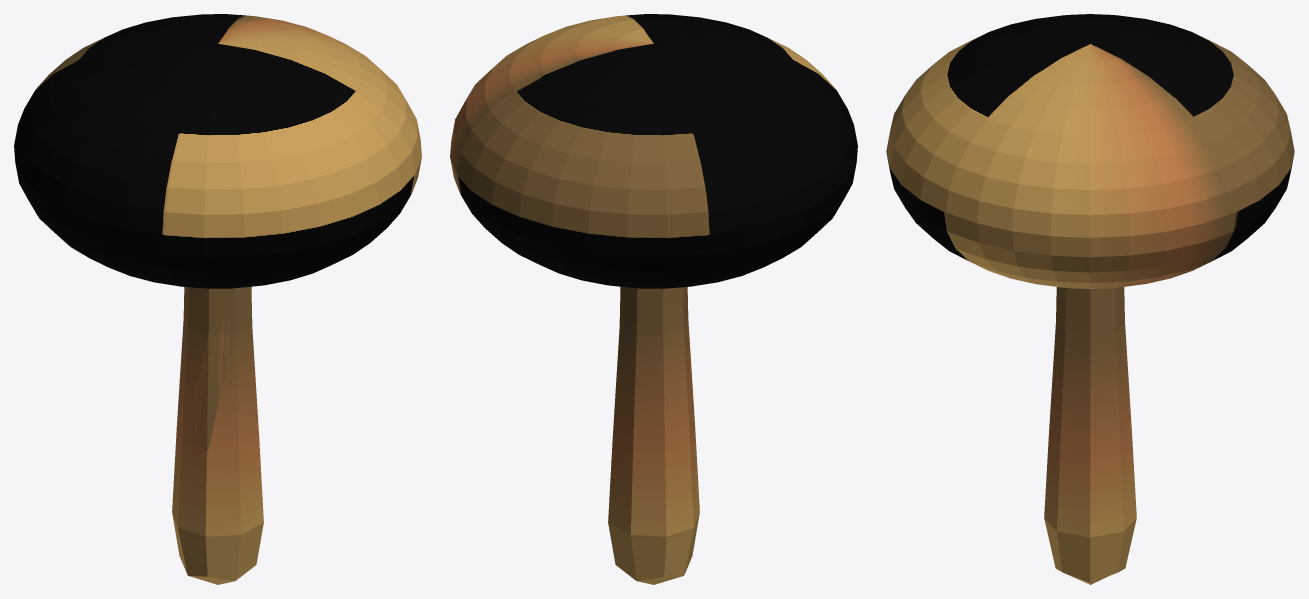
Rendered from Arbol5.fbx.
The picture shows the model from 3 angles, left to right: view 1: azimuth 30°, elevation 25°; view 2: azimuth 150°, elevation 25°; view 3: azimuth 270°, elevation 25°; orthographic projection.
Parts seen in each view (by area): view 1: Cube.003; view 2: Cube.003; view 3: Cube.003.
Part boxes in pixels (x1,y1,x2,y2): Cube.003: [14, 14, 421, 584]; Cube.003: [450, 14, 857, 584]; Cube.003: [886, 14, 1294, 584].
Size of the model in its own units: 513 by 749 by 512.
Materials: 2 (2 with a texture image).
